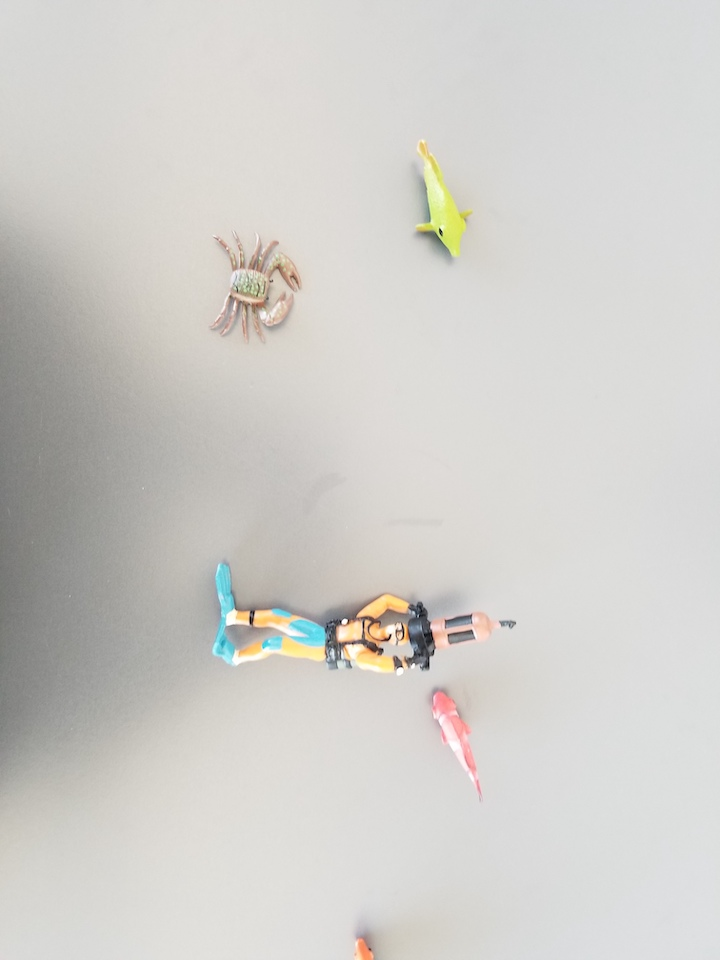crab: (210, 231, 306, 348)
diver: (212, 558, 520, 681)
fish: (411, 138, 472, 261), (429, 689, 490, 806), (350, 935, 377, 960)
